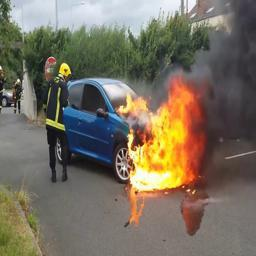fire: (128, 75, 208, 192), (117, 94, 148, 115)
